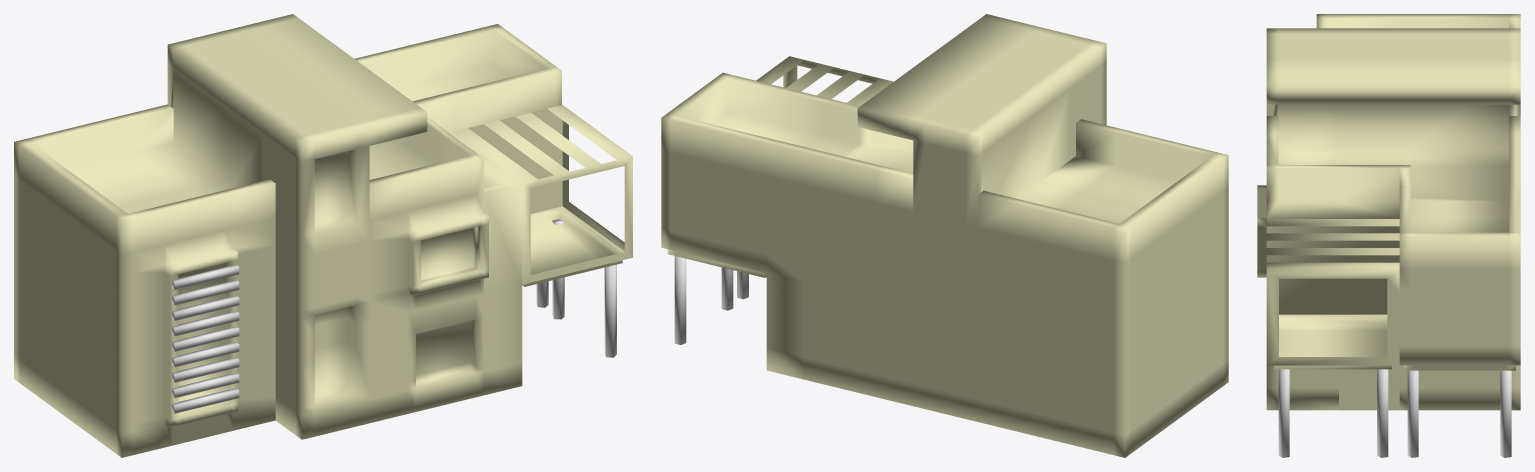
Rendered from Villa.fbx.
3 views of the same model, side by side, from view 1: azimuth 30°, elevation 25°; view 2: azimuth 150°, elevation 25°; view 3: azimuth 270°, elevation 25° (orthographic). The views are drawn at different scales.
Visible parts, largest first — view 1: Villa, WoodDesign, Pillar; view 2: Villa, Pillar.001; view 3: Villa, Door, Pillar.003, Pillar, Pillar.001, Pillar.002.
Part boxes in pixels (bbox=[...]): Villa: bbox=[14, 14, 632, 457]; WoodDesign: bbox=[172, 264, 239, 413]; Pillar: bbox=[604, 264, 616, 357]; Villa: bbox=[661, 14, 1228, 457]; Pillar.001: bbox=[674, 256, 686, 344]; Villa: bbox=[1257, 14, 1520, 410]; Door: bbox=[1339, 365, 1399, 410]; Pillar.003: bbox=[1377, 369, 1388, 457]; Pillar: bbox=[1278, 369, 1289, 457]; Pillar.001: bbox=[1500, 370, 1511, 457]; Pillar.002: bbox=[1407, 370, 1418, 457].
Bounding box in the file's own units: 44.09 × 25.82 × 21.95.
